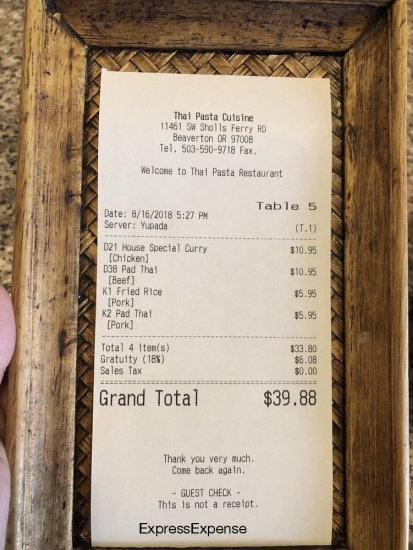Additional details: (157, 442, 263, 515)
Purchase summary: (89, 192, 330, 418)
Receipt: (94, 74, 334, 523)
Shop details: (139, 102, 287, 186)
